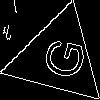G: (33, 33, 88, 83)
